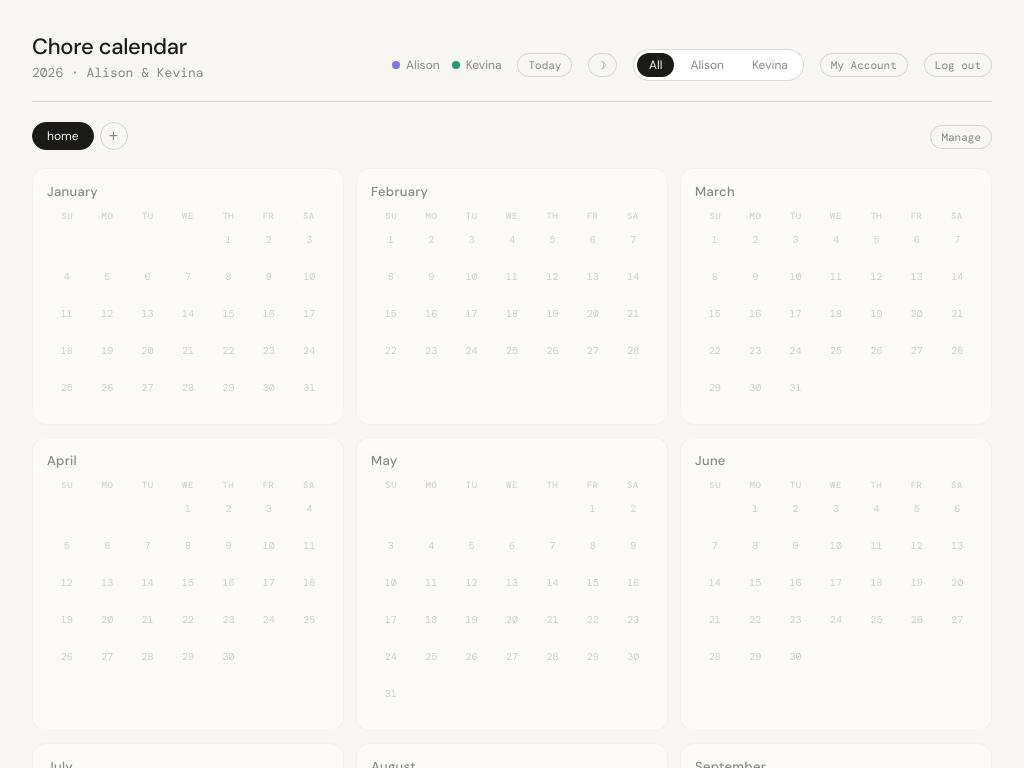
App › closes create group dialog when Cancel is clicked
The image size is (1024, 768).
expect the text "January" is shown: met, box [47,183,98,200]
Click the button named "Create new group".
click(114, 136)  # box [100,122,128,150]
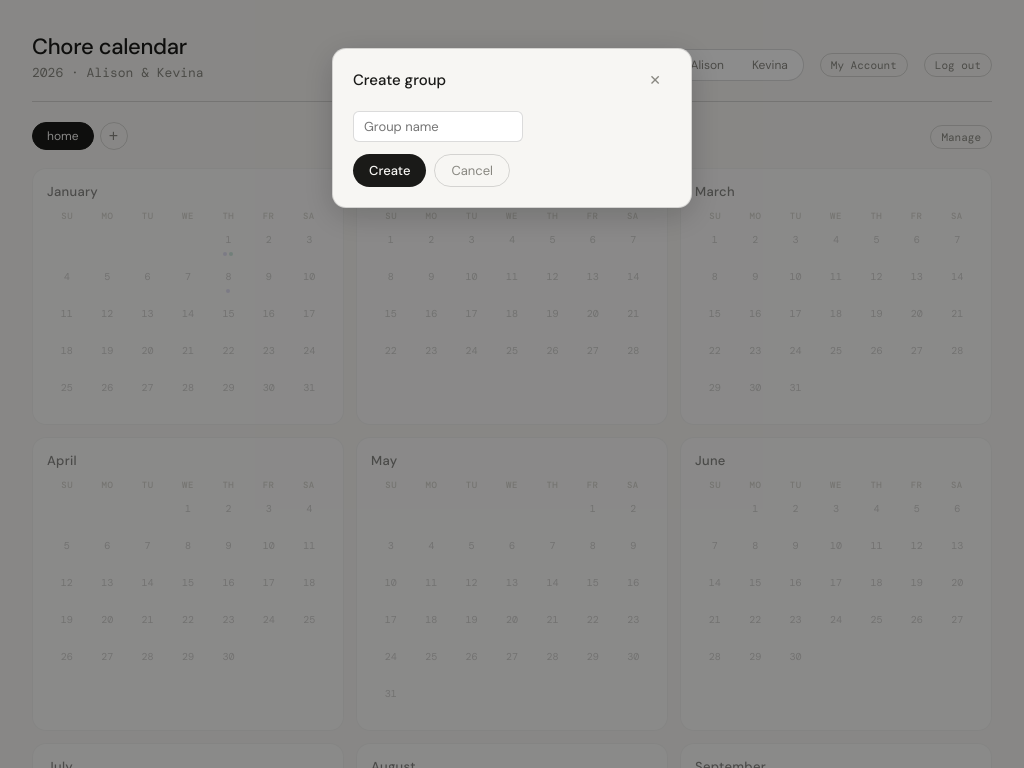
expect the dialog "Create group" is shown: met
Click the button "Cancel".
click(472, 170)  # box [434,154,510,187]
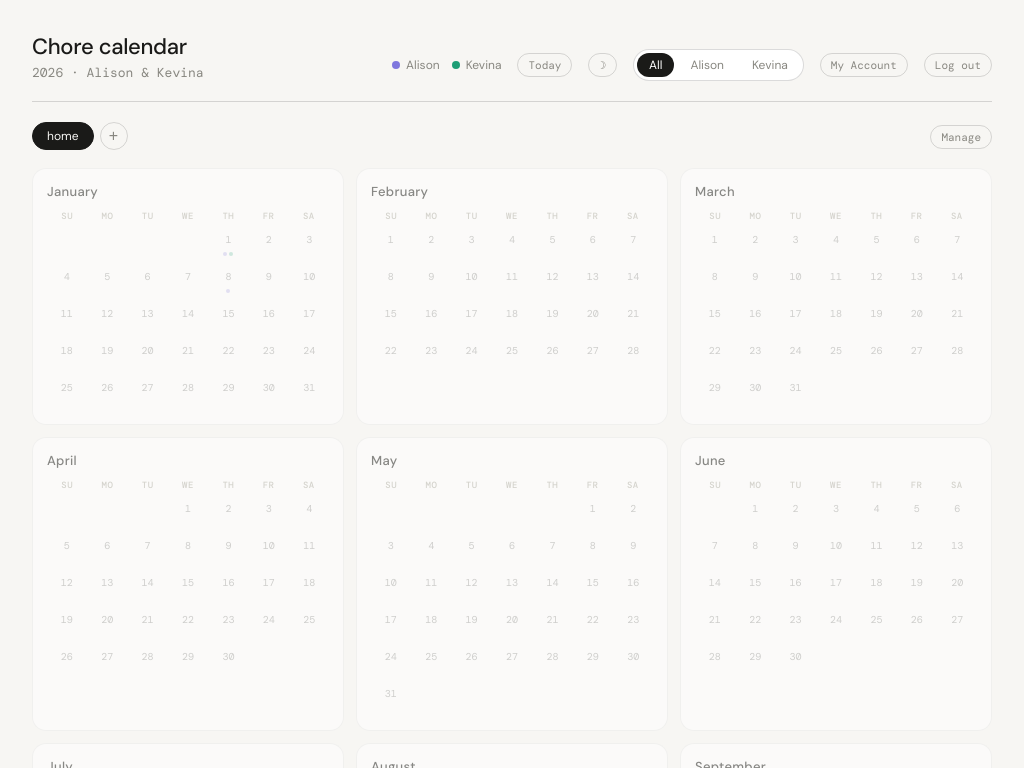
expect the text "Create group" is gone: met
